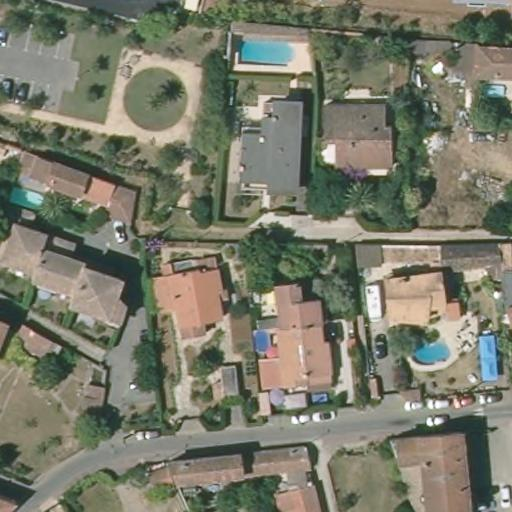pool: (232, 29, 303, 70), (406, 332, 457, 370), (6, 185, 53, 212), (476, 76, 511, 98), (247, 328, 277, 353)
